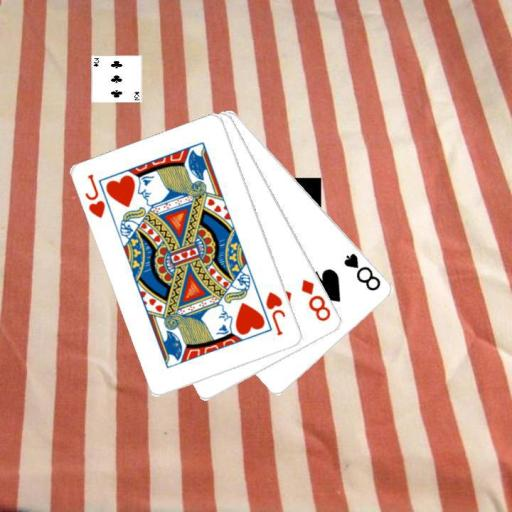8D: (298, 276, 333, 323)
8S: (341, 250, 383, 292)
JH: (83, 171, 108, 220), (263, 289, 287, 337)
